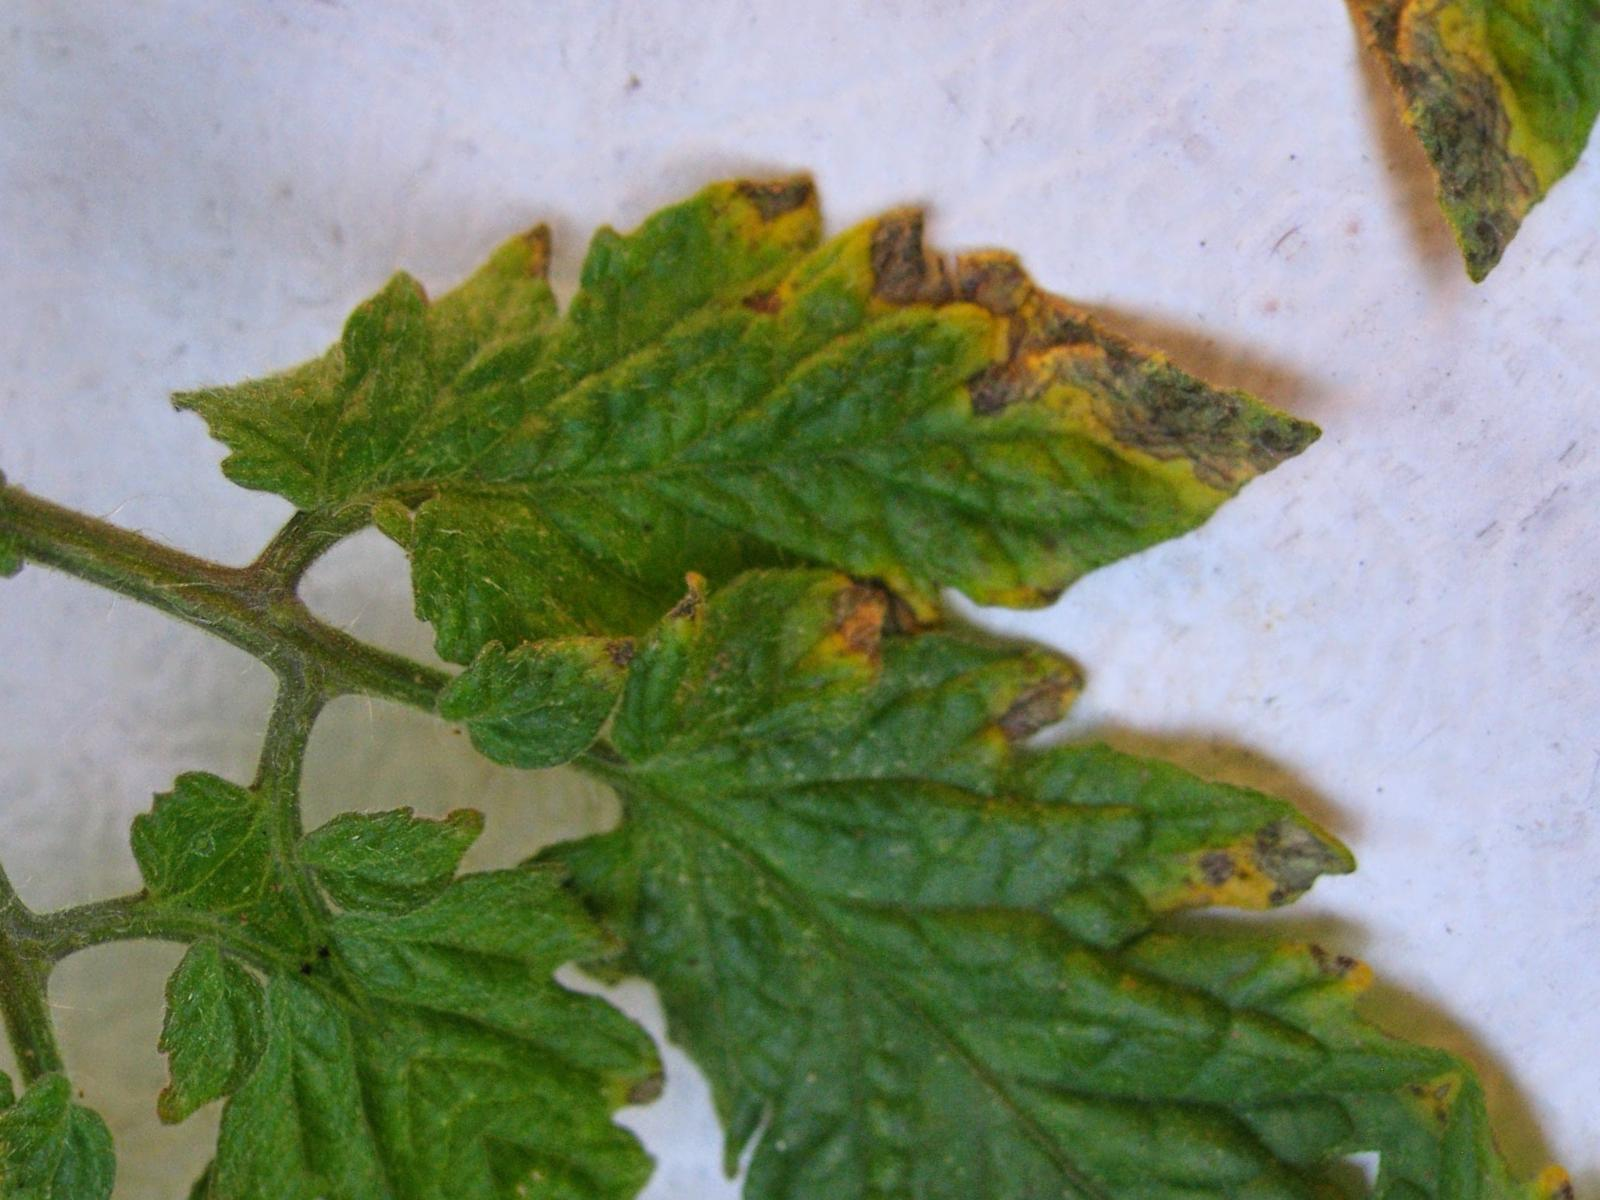Tomato Septoria leaf spot: (99, 87, 1515, 1200), (161, 0, 1333, 1013)
